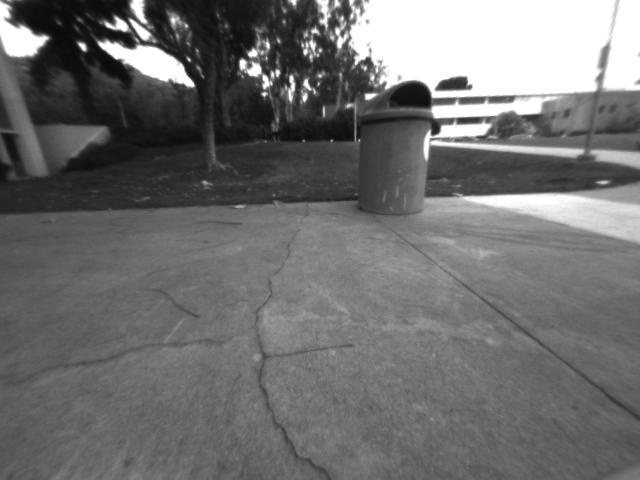trashcan: (346, 78, 447, 226)
